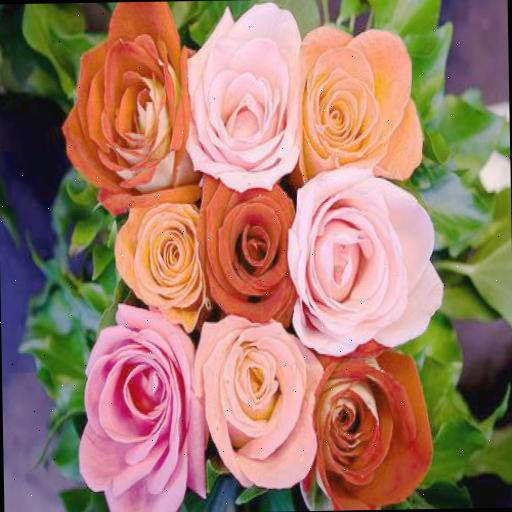rose: (74, 308, 211, 512), (286, 174, 444, 348), (196, 317, 323, 512), (312, 344, 434, 511), (295, 25, 427, 179), (204, 182, 299, 324), (112, 188, 204, 325)
